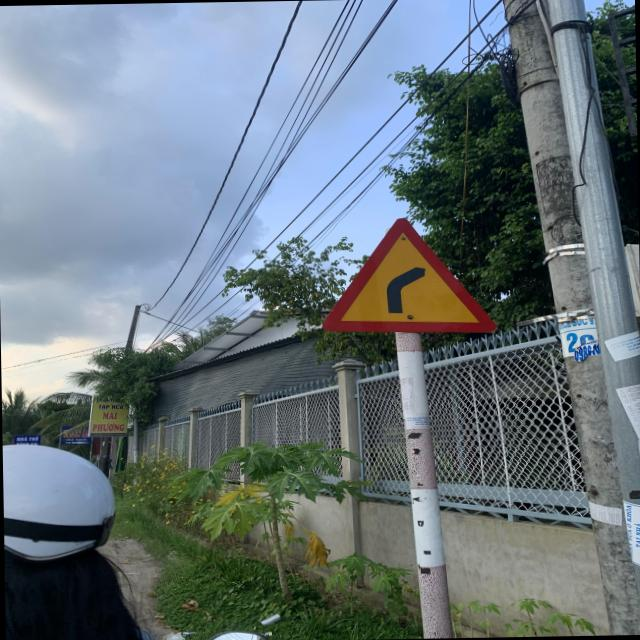Duong_Nguoi_Di_Bo_Cat_Ngang: (314, 215, 492, 338)
